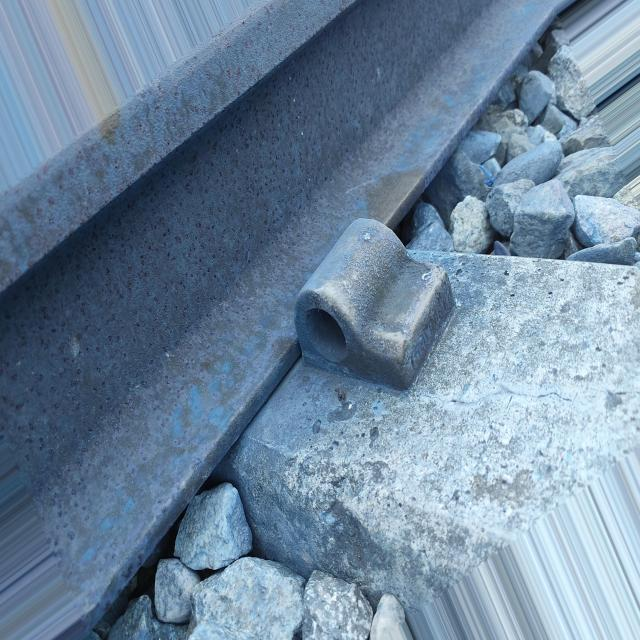Missing Fastener: (274, 203, 466, 418)
